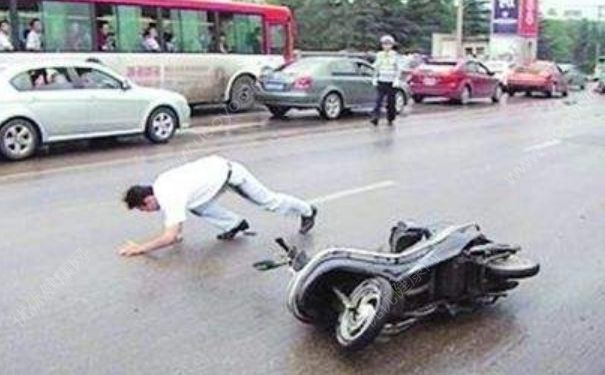falling: (107, 146, 327, 261)
